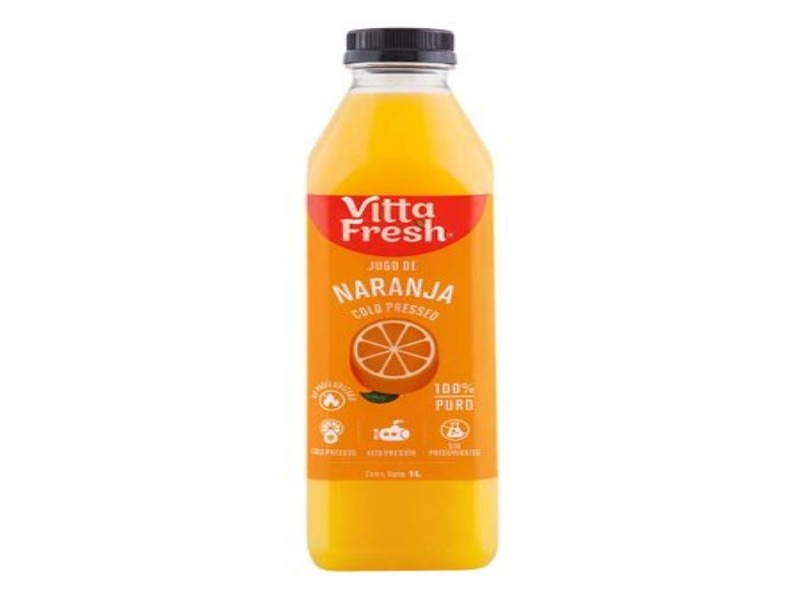Jugo de naranja: (304, 29, 499, 572)
